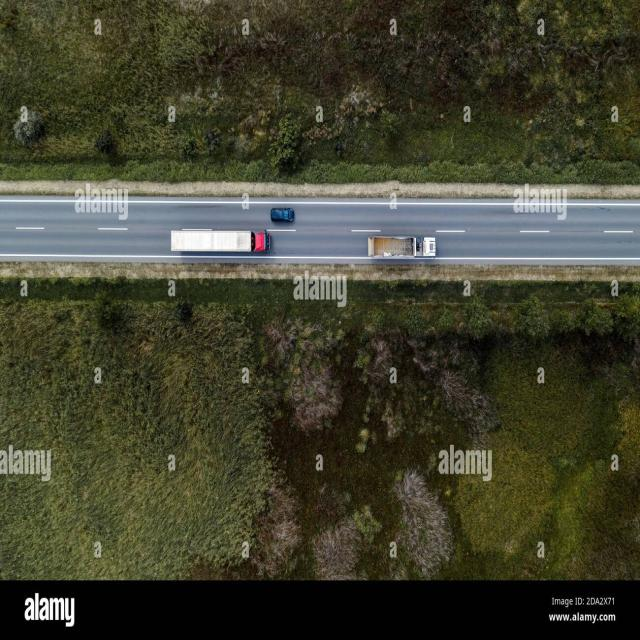truck: (171, 230, 272, 252), (368, 236, 436, 258), (271, 208, 294, 222)
